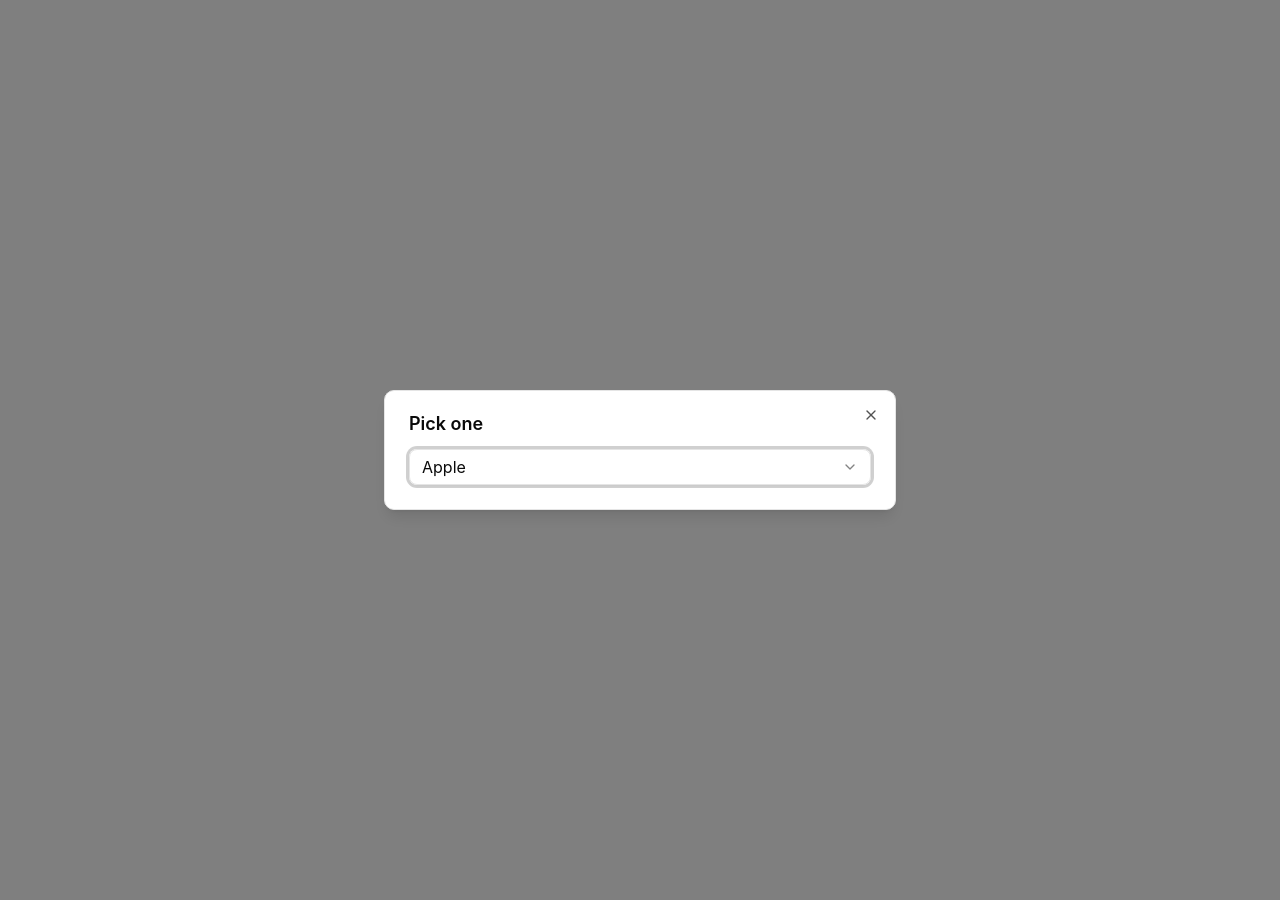
Test case: Combobox › closes only the panel on Escape while a dialog stays open
Later steps or results of the test are not shown.
Click the dropdown named "fruit" at (444, 467), box 409,449 -> 871,485
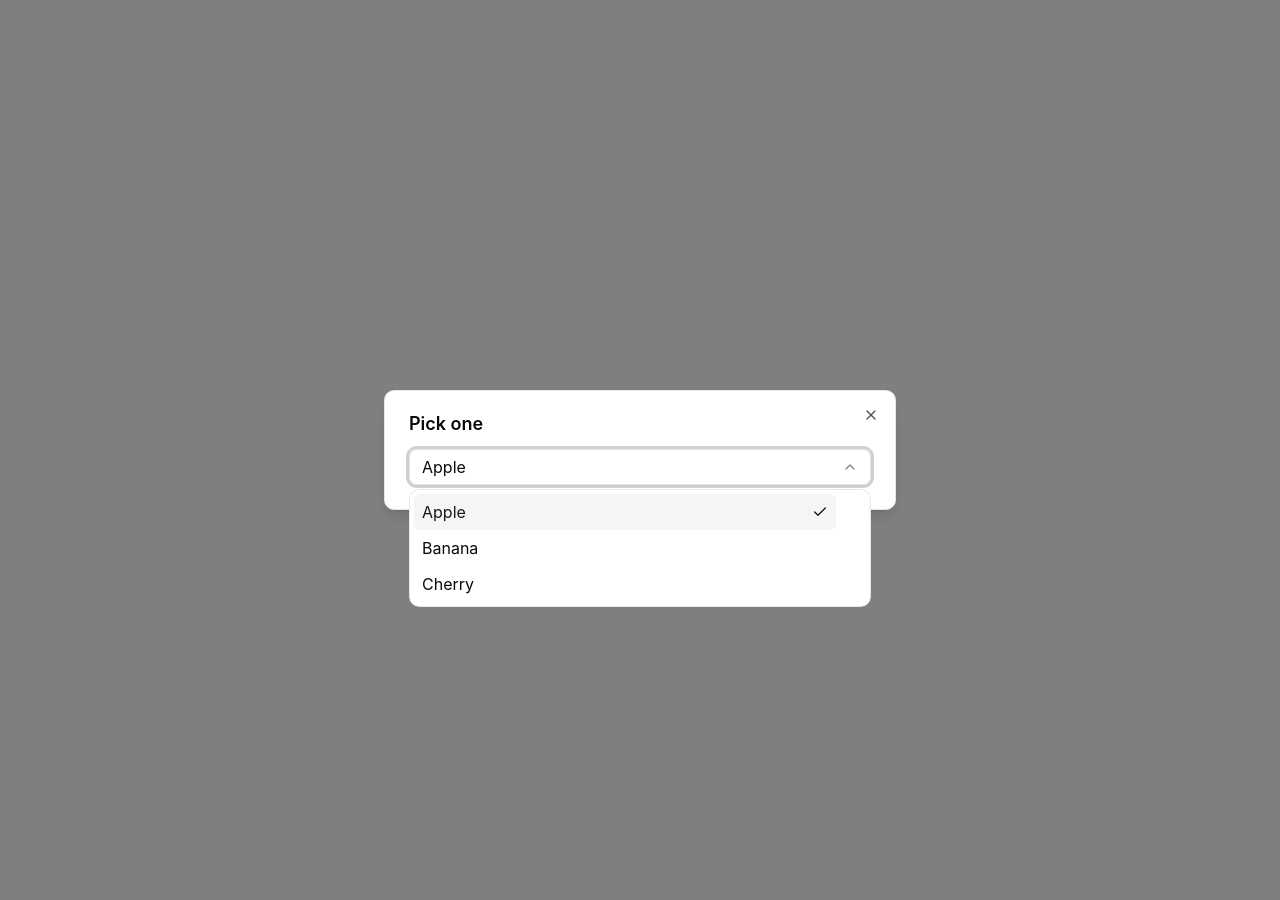
Result: the option "Banana" is shown at 414,530 -> 836,566
First Escape belongs to the open panel: the dialog must not react.
Press Escape
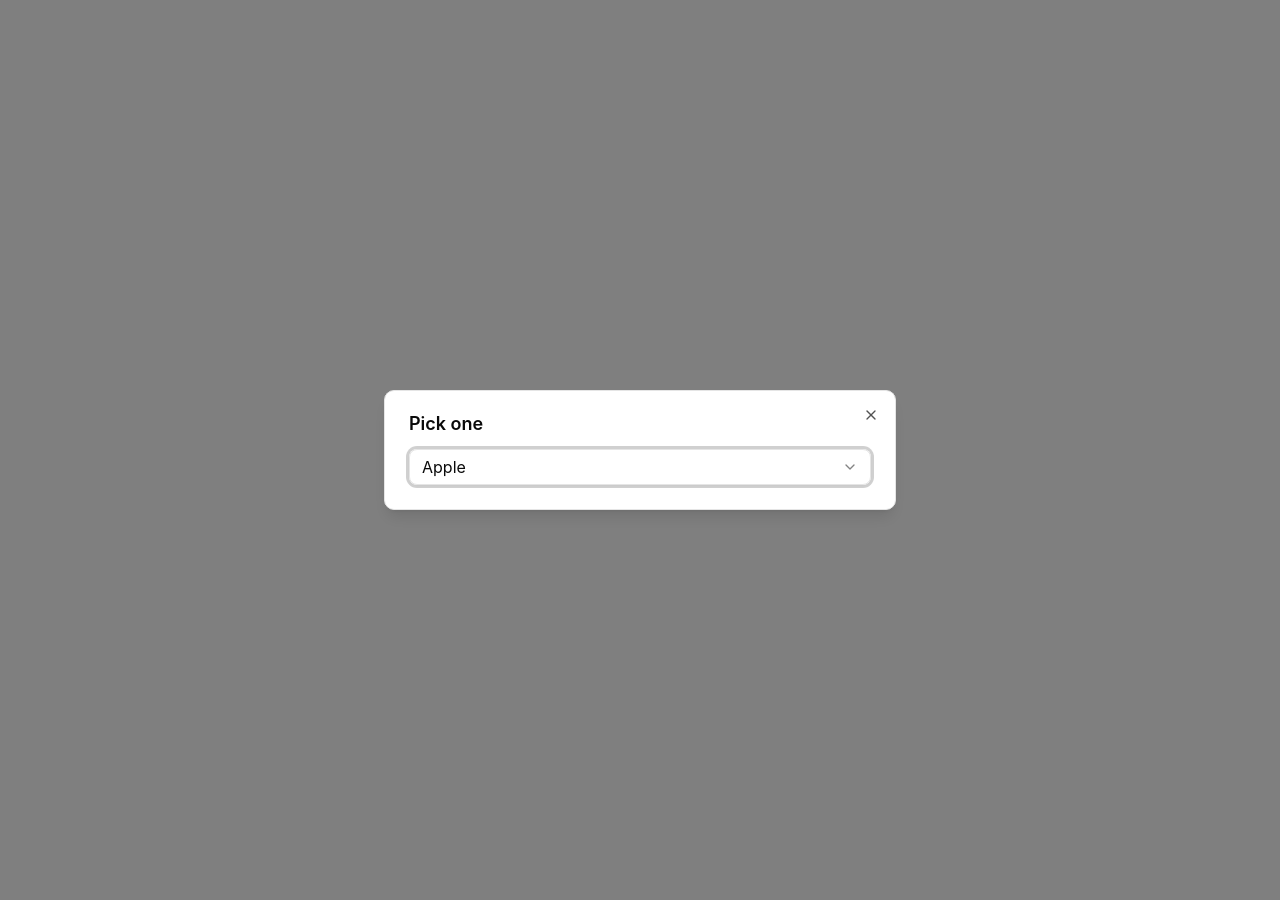
Result: the dropdown named "fruit" is collapsed at 409,449 -> 871,485
